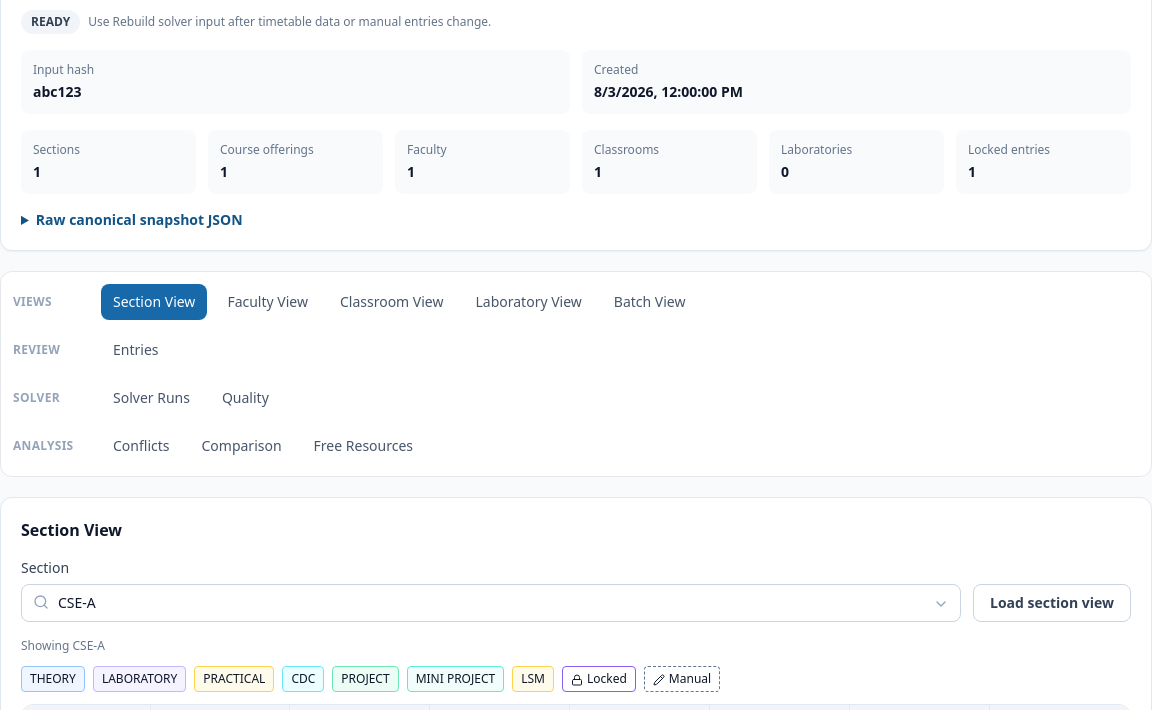
Scenario: Timetable version operational workspace › keeps all read-only tools visible while locked mutations are disabled
(page scrolled)
Expected: the text "abc123" is shown, [33,82,82,101]
Expected: the button "Section View" is shown, [101,284,207,320]
Click the button "Entries" at (136, 350), box [101,332,170,368]
(page scrolled)
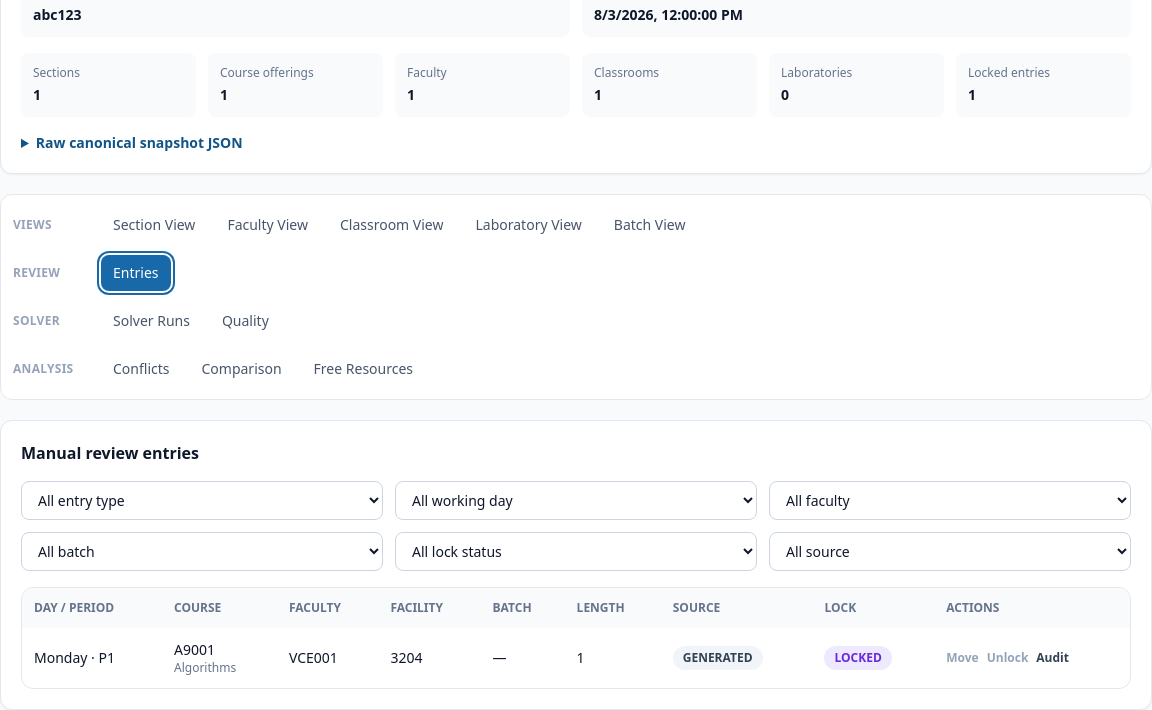
Expected: the button "Move" is disabled, [946,650,979,666]
Expected: the button "Unlock" is disabled, [987,650,1028,666]
Expected: the button "Audit" is enabled, [1036,650,1069,666]
